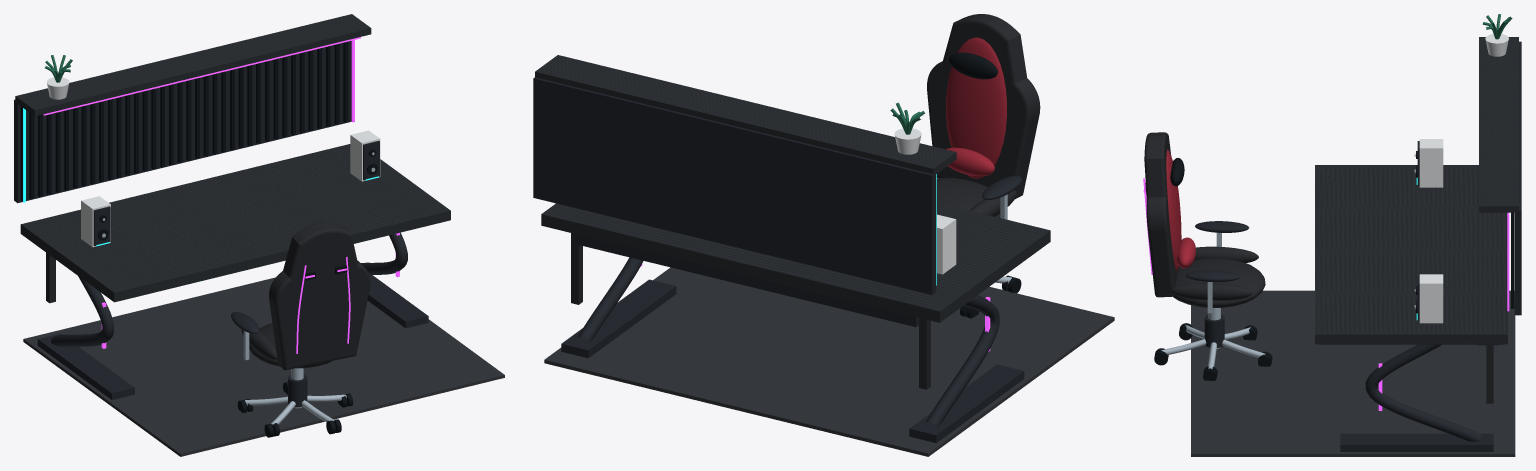
Rendered from furniture85-carbon.glb.
3 views of the same model, side by side, from view 1: azimuth 30°, elevation 25°; view 2: azimuth 150°, elevation 25°; view 3: azimuth 270°, elevation 25° (orthographic). The views are drawn at different scales.
Visible parts, largest first — view 1: s83-surface-167def71-6918-47ee-8776-8018da9233e3, s83-surface-c18b8647-4afa-49c2-a3d6-b39db0782372, s83-surface-cb0b5405-dc50-4b33-a34b-141707f43296, s83-surface-11dea7e0-5fbc-4586-9fec-738ff829fcb7, s83-surface-8906f883-a21b-4864-a134-032638afe6ef, s83-surface-434edc67-db00-4b39-af6e-532fb44e686c, s83-surface-4f938afe-b721-4bf6-9cd6-7f2f804629de, s83-surface-e03f8078-c95d-42b5-8ed1-e4cb6c86136a; view 2: s83-surface-cb0b5405-dc50-4b33-a34b-141707f43296, s83-surface-c18b8647-4afa-49c2-a3d6-b39db0782372, s83-surface-167def71-6918-47ee-8776-8018da9233e3, s83-surface-8906f883-a21b-4864-a134-032638afe6ef, s83-surface-4b6f3099-95a0-4656-974e-72634003f377, s83-surface-434edc67-db00-4b39-af6e-532fb44e686c, s83-surface-11dea7e0-5fbc-4586-9fec-738ff829fcb7; view 3: s83-surface-167def71-6918-47ee-8776-8018da9233e3, s83-surface-c18b8647-4afa-49c2-a3d6-b39db0782372, s83-surface-cb0b5405-dc50-4b33-a34b-141707f43296, s83-surface-8906f883-a21b-4864-a134-032638afe6ef, s83-surface-434edc67-db00-4b39-af6e-532fb44e686c, s83-surface-11dea7e0-5fbc-4586-9fec-738ff829fcb7, s83-surface-e03f8078-c95d-42b5-8ed1-e4cb6c86136a, s83-surface-4b6f3099-95a0-4656-974e-72634003f377, s83-surface-4f938afe-b721-4bf6-9cd6-7f2f804629de.
Boxes of the visible parts, box(x1,y1,x2,y2) form: s83-surface-167def71-6918-47ee-8776-8018da9233e3: box(15, 14, 450, 302); s83-surface-c18b8647-4afa-49c2-a3d6-b39db0782372: box(23, 277, 504, 456); s83-surface-cb0b5405-dc50-4b33-a34b-141707f43296: box(14, 41, 428, 407); s83-surface-11dea7e0-5fbc-4586-9fec-738ff829fcb7: box(20, 41, 377, 437); s83-surface-8906f883-a21b-4864-a134-032638afe6ef: box(46, 222, 370, 370); s83-surface-434edc67-db00-4b39-af6e-532fb44e686c: box(46, 77, 380, 247); s83-surface-4f938afe-b721-4bf6-9cd6-7f2f804629de: box(43, 37, 399, 353); s83-surface-e03f8078-c95d-42b5-8ed1-e4cb6c86136a: box(102, 152, 375, 424); s83-surface-cb0b5405-dc50-4b33-a34b-141707f43296: box(533, 77, 1024, 443); s83-surface-c18b8647-4afa-49c2-a3d6-b39db0782372: box(544, 267, 1114, 456); s83-surface-167def71-6918-47ee-8776-8018da9233e3: box(535, 55, 1050, 322); s83-surface-8906f883-a21b-4864-a134-032638afe6ef: box(571, 14, 1040, 389); s83-surface-4b6f3099-95a0-4656-974e-72634003f377: box(945, 37, 1006, 178); s83-surface-434edc67-db00-4b39-af6e-532fb44e686c: box(894, 128, 956, 274); s83-surface-11dea7e0-5fbc-4586-9fec-738ff829fcb7: box(949, 52, 1021, 318); s83-surface-167def71-6918-47ee-8776-8018da9233e3: box(1315, 37, 1518, 344); s83-surface-c18b8647-4afa-49c2-a3d6-b39db0782372: box(1191, 290, 1515, 456); s83-surface-cb0b5405-dc50-4b33-a34b-141707f43296: box(1185, 41, 1521, 451); s83-surface-8906f883-a21b-4864-a134-032638afe6ef: box(1144, 132, 1493, 403); s83-surface-434edc67-db00-4b39-af6e-532fb44e686c: box(1419, 34, 1508, 323); s83-surface-11dea7e0-5fbc-4586-9fec-738ff829fcb7: box(1145, 151, 1514, 380); s83-surface-e03f8078-c95d-42b5-8ed1-e4cb6c86136a: box(1161, 153, 1415, 368); s83-surface-4b6f3099-95a0-4656-974e-72634003f377: box(1166, 149, 1195, 270); s83-surface-4f938afe-b721-4bf6-9cd6-7f2f804629de: box(1143, 178, 1509, 410).
Bounding box in the file's own units: 2.2 × 1.76 × 2.08.
11 materials, 1 textured.
